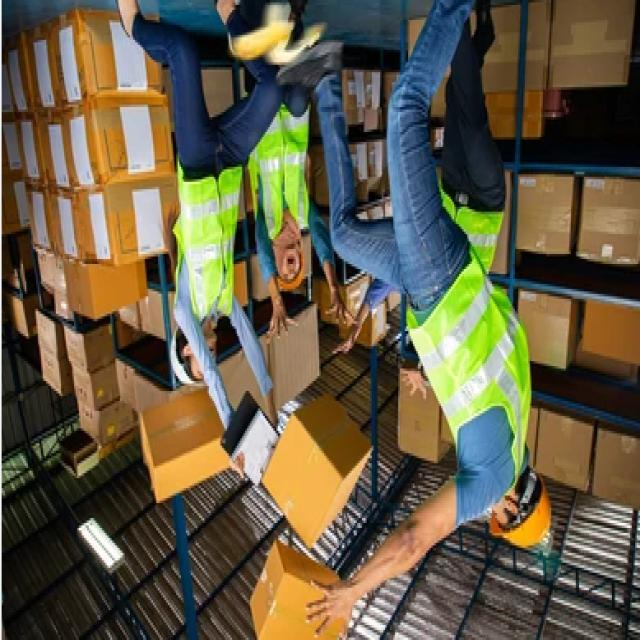hard_hat: (486, 473, 550, 549), (169, 313, 219, 389), (276, 242, 306, 299)
vest: (404, 243, 534, 505), (418, 171, 513, 349), (171, 158, 241, 325), (239, 99, 315, 236)
